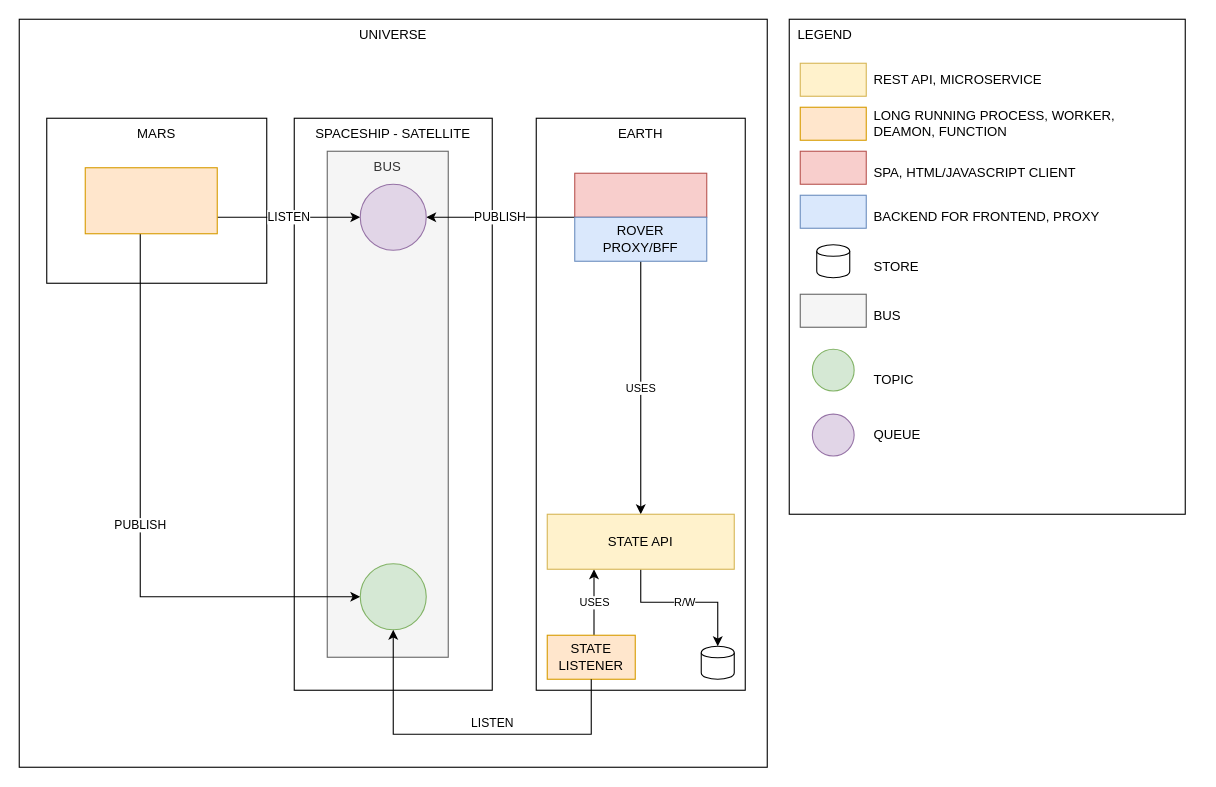
The diagram is 1216 pixels wide and 787 high, and some of its shapes have lost their labels. The centre of each missing label's shape, as x and y in pixels:
"COMMANDS" goes at point (392, 216).
"ROVER HOST" goes at point (150, 200).
"ROVER SPA" goes at point (640, 194).
"STATE" goes at point (392, 596).
